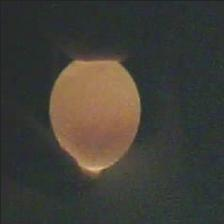infertile: (46, 54, 138, 168)
